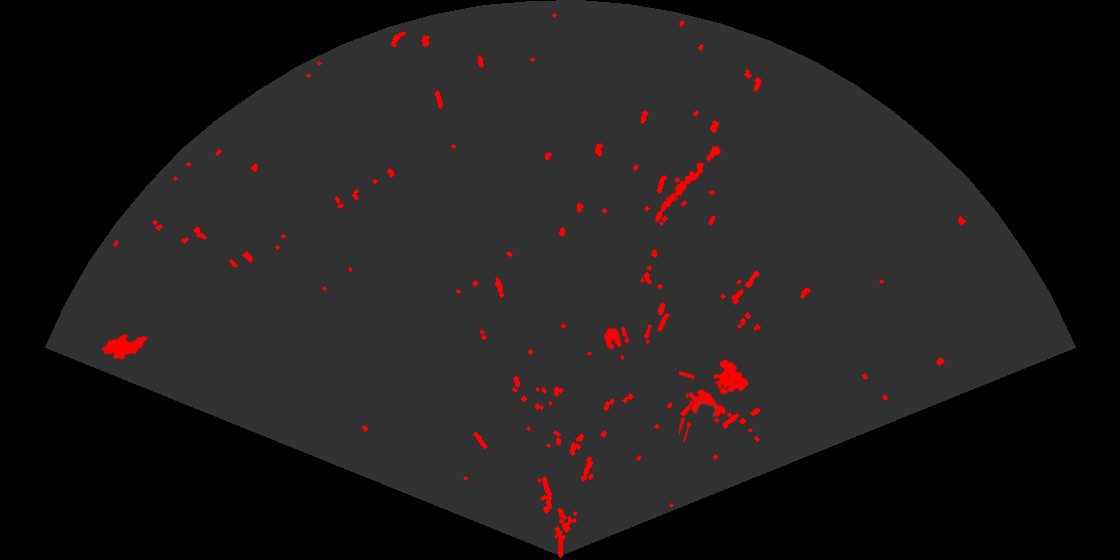AUV: (100, 333, 149, 361)
ball: (602, 325, 631, 351)
cage: (679, 357, 750, 442)
chain: (653, 144, 723, 223)
